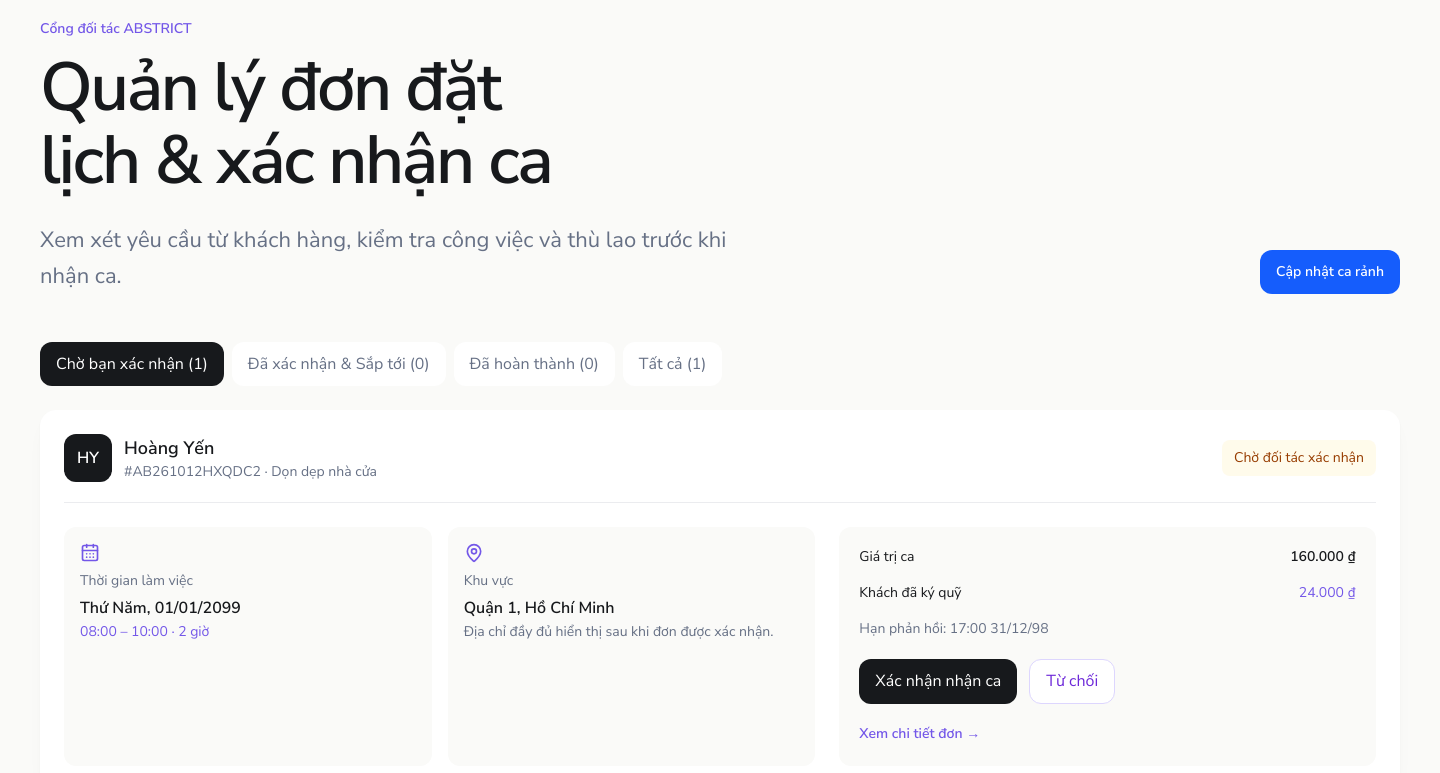
Test: Partner screens › does not falsely confirm a booking when the server refuses
What coordinates should you click on to do the following:
click the button "Xác nhận nhận ca"
I would click on:
 (938, 682)
Its box is 859,660 -> 1017,704.
(page scrolled)
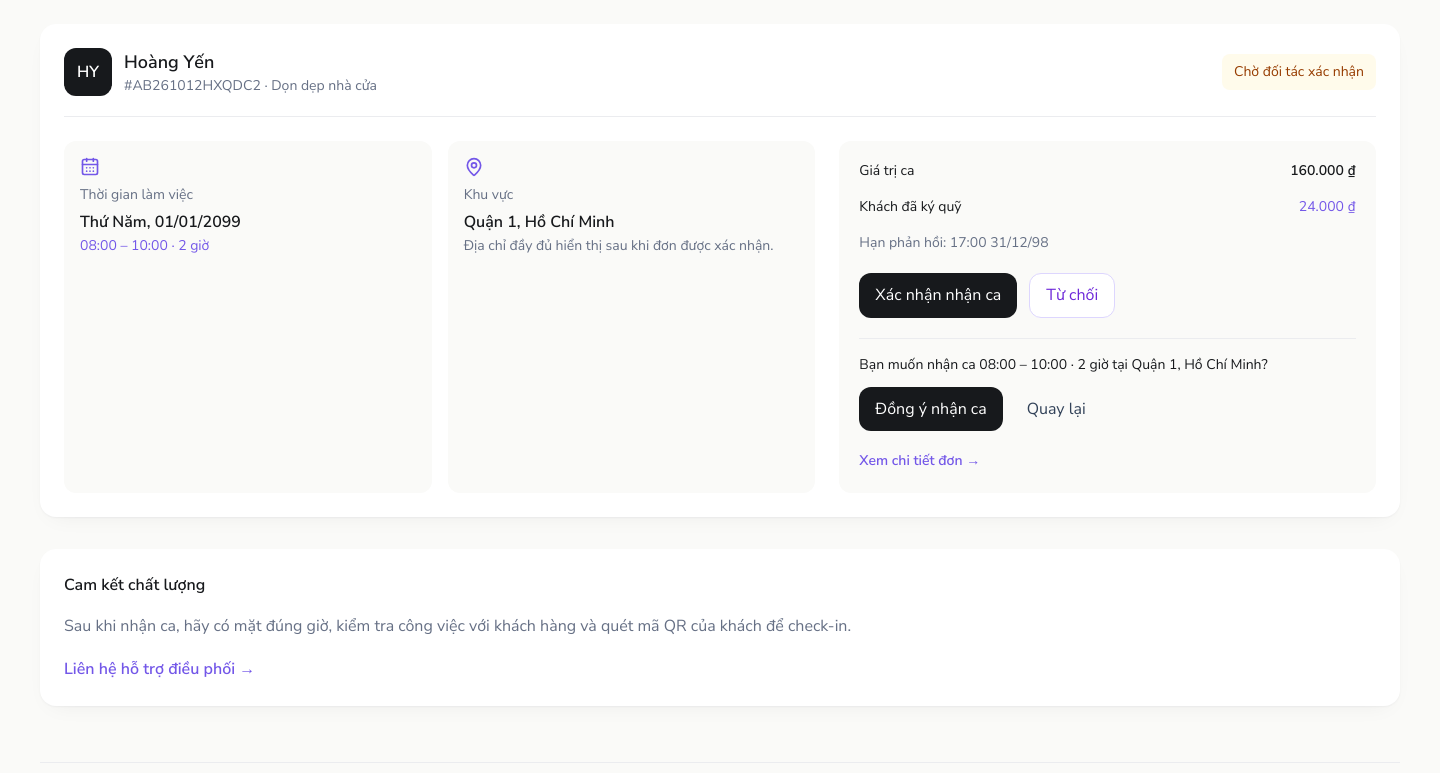
What coordinates should you click on to do the following:
click the button "Đồng ý nhận ca"
I would click on:
 (931, 409)
Its box is 859,387 -> 1003,431.
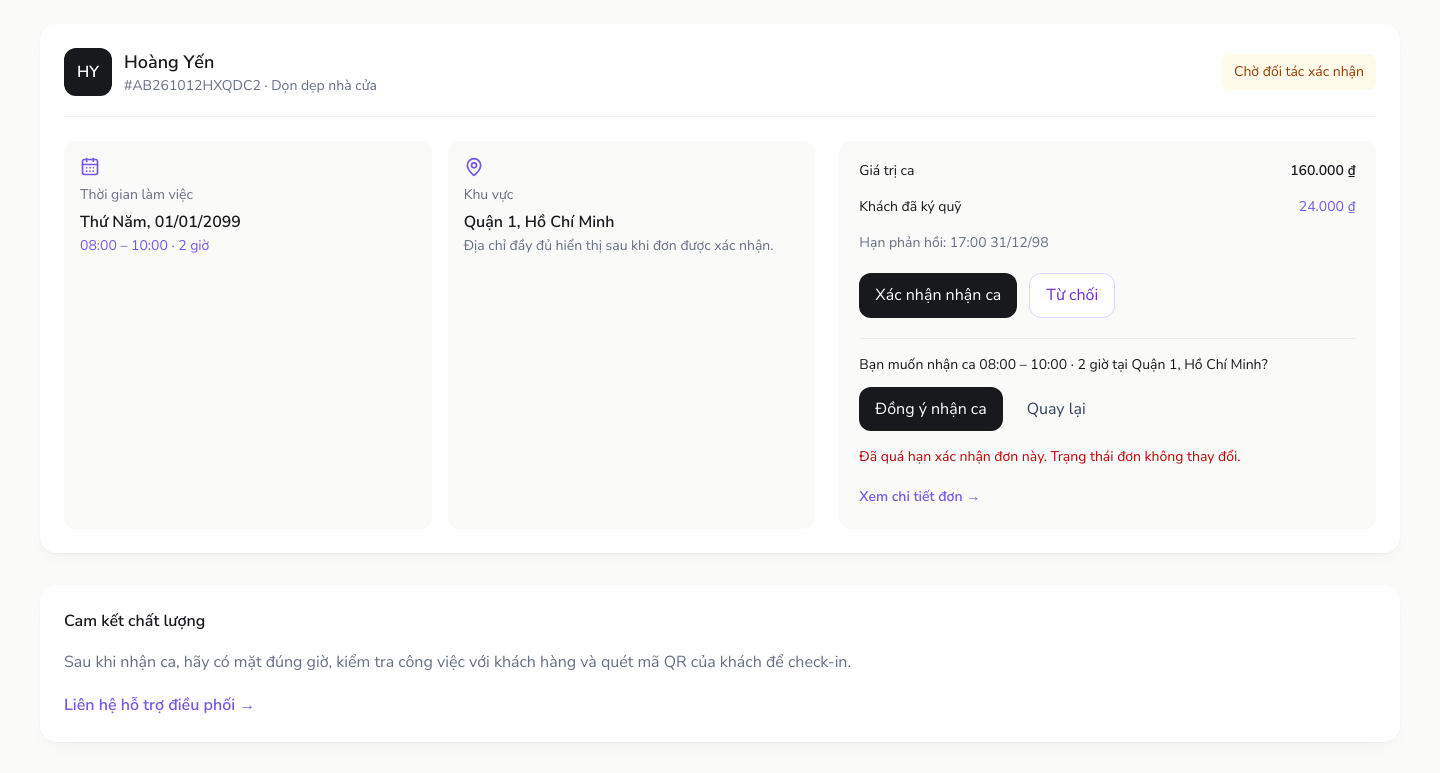
Expected: the message reads "Đã quá hạn xác nhận đơn này. Trạng thái đơn không thay đổi.", 859,447 -> 1240,466
